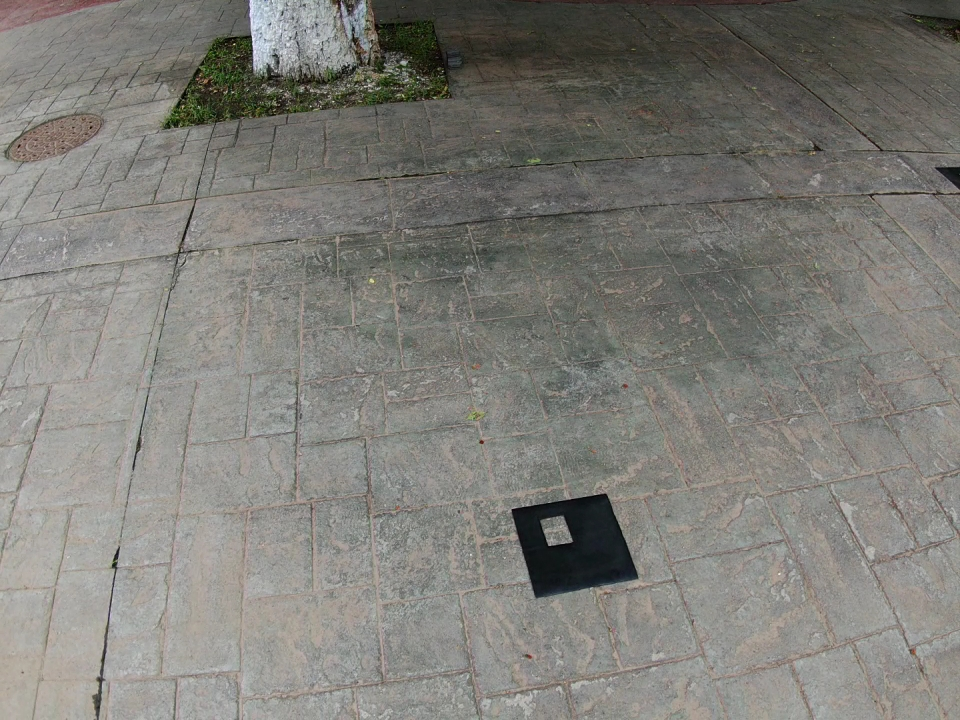qrcode: (512, 494, 638, 598)
